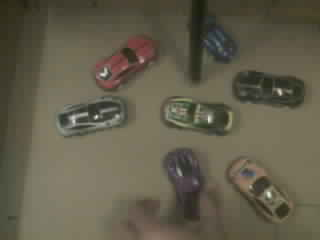Car: (229, 157, 291, 221), (94, 36, 156, 88), (162, 96, 233, 135), (57, 96, 127, 135), (164, 148, 202, 216), (233, 71, 303, 106), (203, 21, 234, 56)
